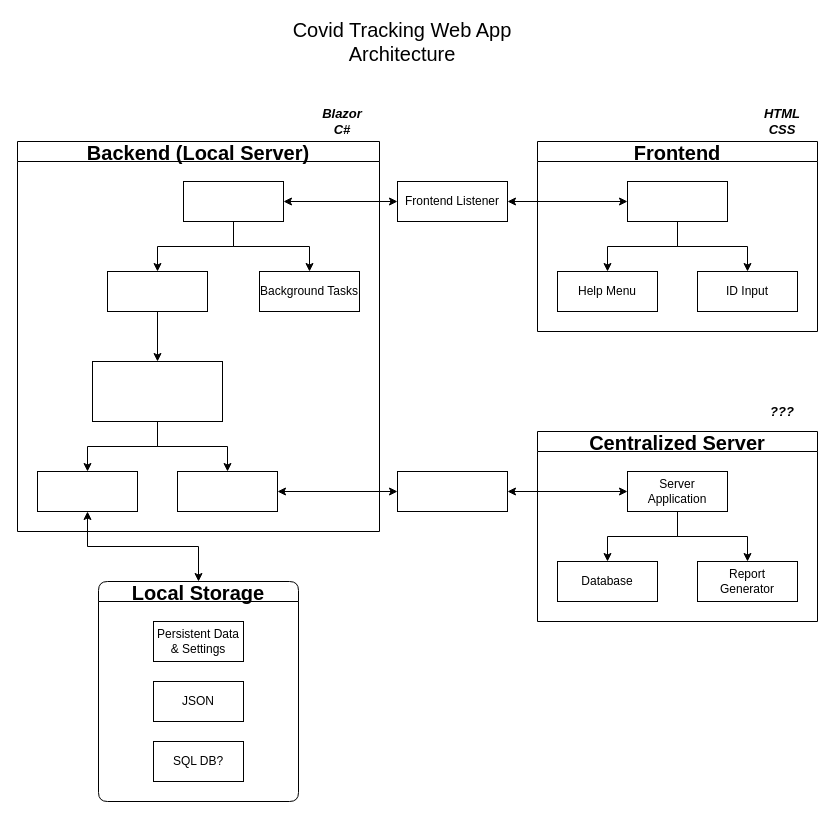
Some shapes in this 835 by 819 pixel diagram are drawn without their labels. Each missing label, with the centre of its shape:
Background Thread: (x=233, y=201)
External Transmission: (x=227, y=491)
Internal Storage: (x=87, y=491)
IO: (x=157, y=291)
Server Listener: (x=452, y=491)
Verification, Encryption & Compression: (x=157, y=391)
Website: (x=677, y=201)
